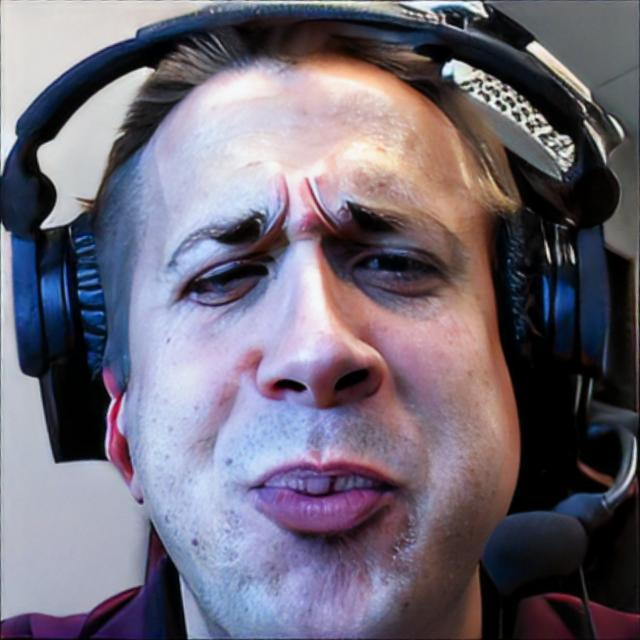disgust: (124, 50, 521, 640)
